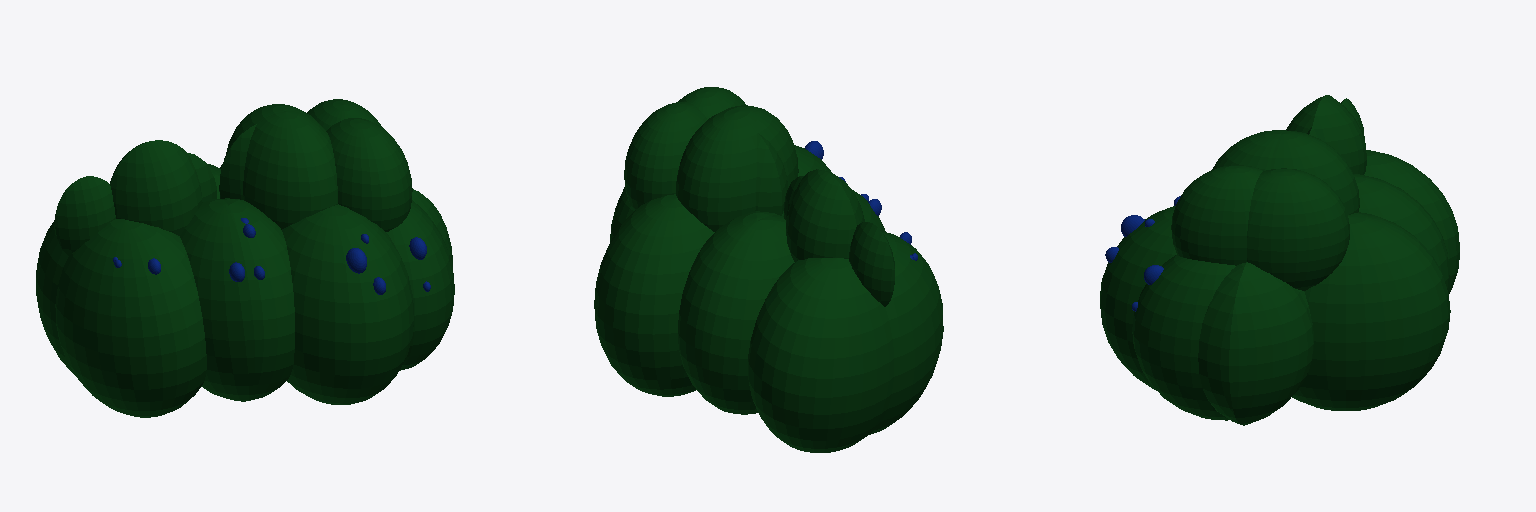
File: bush2.obj
3 renders of one model, left to right at view 1: azimuth 30°, elevation 25°; view 2: azimuth 150°, elevation 25°; view 3: azimuth 270°, elevation 25°, orthographic.
Visible parts, largest first — view 1: Sphere006, Sphere005, Sphere007; view 2: Sphere006, Sphere007; view 3: Sphere006, Sphere005, Sphere007.
Boxes of the visible parts, box(x1,y1,x2,y2) form: Sphere006: box(36, 99, 452, 417); Sphere005: box(386, 200, 454, 370); Sphere007: box(113, 218, 430, 294); Sphere006: box(594, 87, 943, 452); Sphere007: box(805, 141, 917, 260); Sphere006: box(1100, 95, 1459, 425); Sphere005: box(1132, 255, 1310, 420); Sphere007: box(1105, 196, 1180, 311).
Bounding box in the file's own units: 14.09 × 10.8 × 12.9.